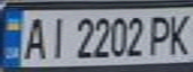0: (109, 14, 130, 58)
2: (69, 13, 97, 60), (90, 14, 112, 61), (127, 12, 148, 57)
A: (18, 14, 51, 61)
I: (42, 12, 69, 61)
K: (163, 10, 193, 56)
P: (145, 11, 175, 57)
